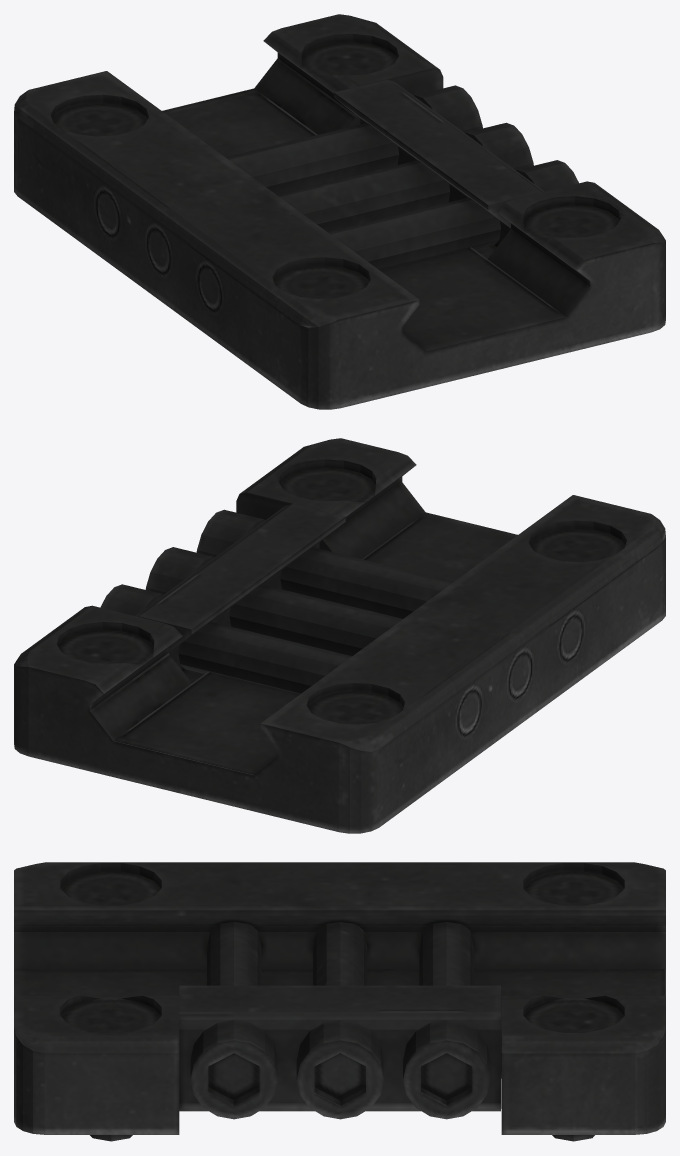
The picture shows the model from 3 angles, top to bottom: view 1: azimuth 30°, elevation 25°; view 2: azimuth 150°, elevation 25°; view 3: azimuth 270°, elevation 25°; orthographic projection. The views are drawn at different scales.
Parts seen in each view (by area): view 1: TW_67641a851b2899700609901a_PZ_Import; view 2: TW_67641a851b2899700609901a_PZ_Import; view 3: TW_67641a851b2899700609901a_PZ_Import.
Part boxes in pixels (x1,y1,x2,y2): TW_67641a851b2899700609901a_PZ_Import: (14,14,665,409); TW_67641a851b2899700609901a_PZ_Import: (14,438,665,833); TW_67641a851b2899700609901a_PZ_Import: (14,862,665,1141).
Size of the model in its own units: 0.0237 by 0.0355 by 0.00713.
1 material, 1 textured.
